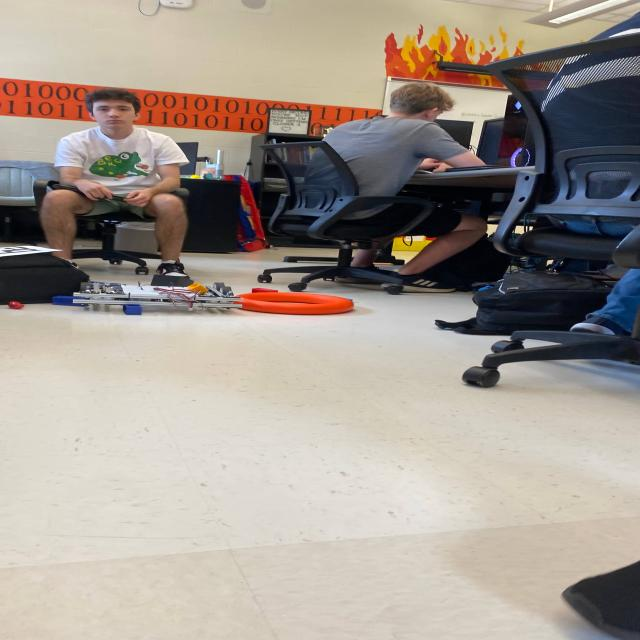blue-specimen: (123, 304, 142, 315), (52, 297, 73, 305)
red-specimen: (251, 288, 278, 293)
yellow-specimen: (187, 283, 208, 294)
